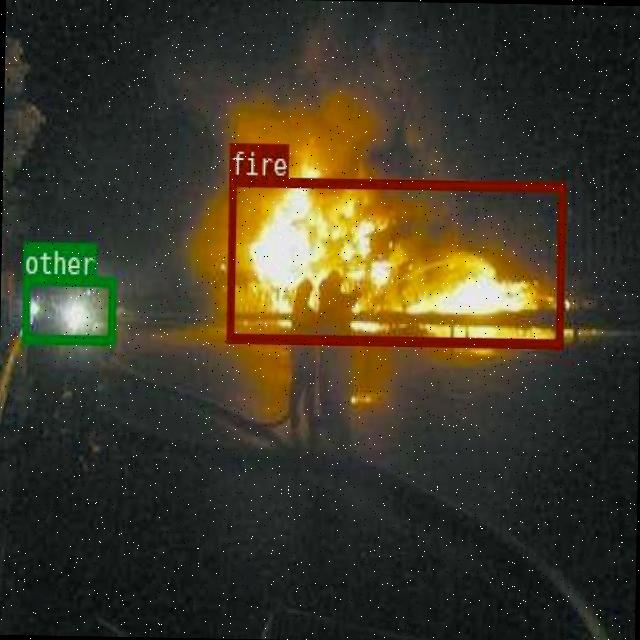fire: (226, 175, 564, 348)
